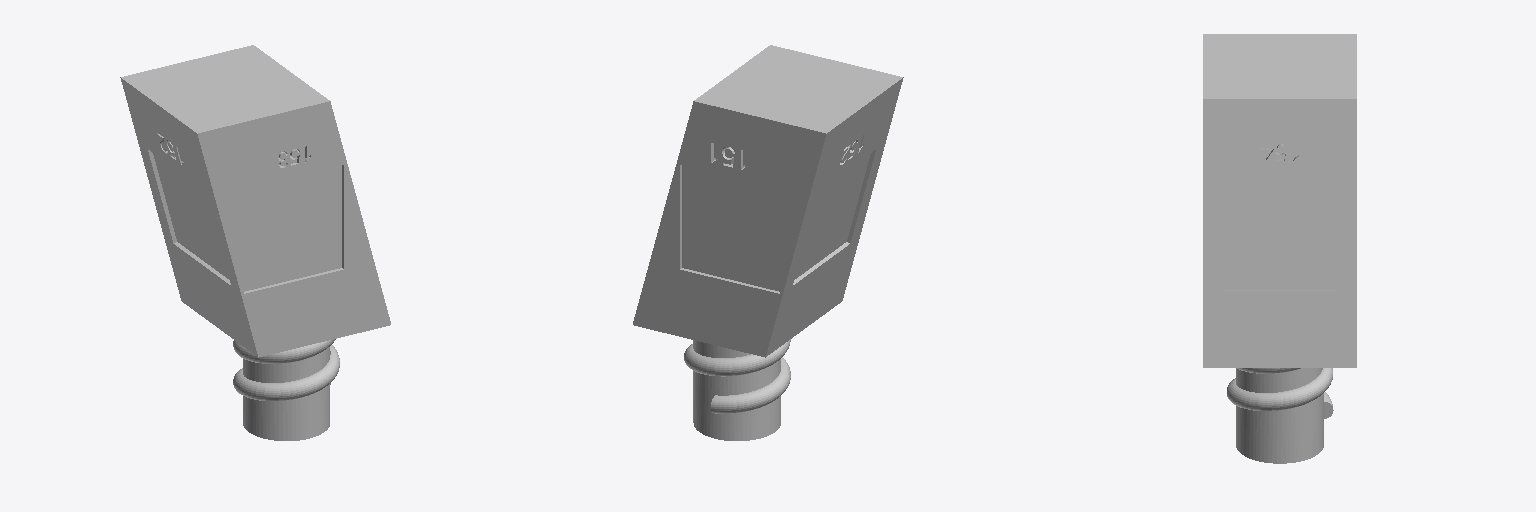
File: stool_leg2.obj
3 views of the same model, side by side, from view 1: azimuth 30°, elevation 25°; view 2: azimuth 150°, elevation 25°; view 3: azimuth 270°, elevation 25° (orthographic).
Parts seen in each view (by area): view 1: stool_leg2_v2, stool_leg2_v2.003, stool_leg2_v2.002; view 2: stool_leg2_v2, stool_leg2_v2.001, stool_leg2_v2.002; view 3: stool_leg2_v2, stool_leg2_v2.004.
Boxes of the visible parts, box(x1,y1,x2,y2) form: stool_leg2_v2: box(120, 45, 390, 440); stool_leg2_v2.003: box(244, 165, 343, 293); stool_leg2_v2.002: box(148, 150, 230, 284); stool_leg2_v2: box(633, 45, 903, 440); stool_leg2_v2.001: box(680, 165, 779, 293); stool_leg2_v2.002: box(793, 150, 875, 284); stool_leg2_v2: box(1203, 34, 1356, 463); stool_leg2_v2.004: box(1222, 177, 1337, 290).
Size of the model in its own units: 0.0511 by 0.0875 by 0.035.